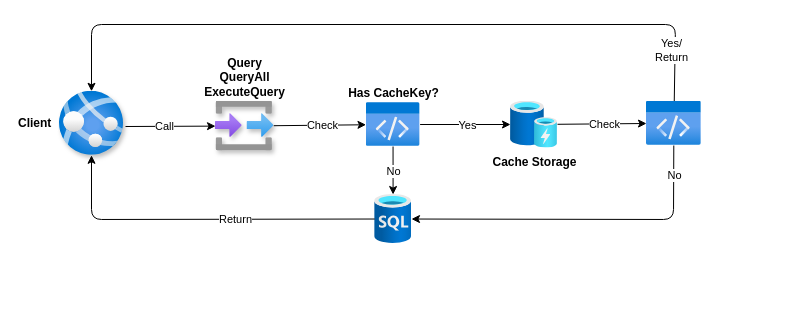
Image size: 788x311. Some labels were removed from this diagram. Each missing label, with the centre of its shape:
Database (Network Boundary) (Cloud/On-Premise): [392,218]
Is Present?: [673,122]
